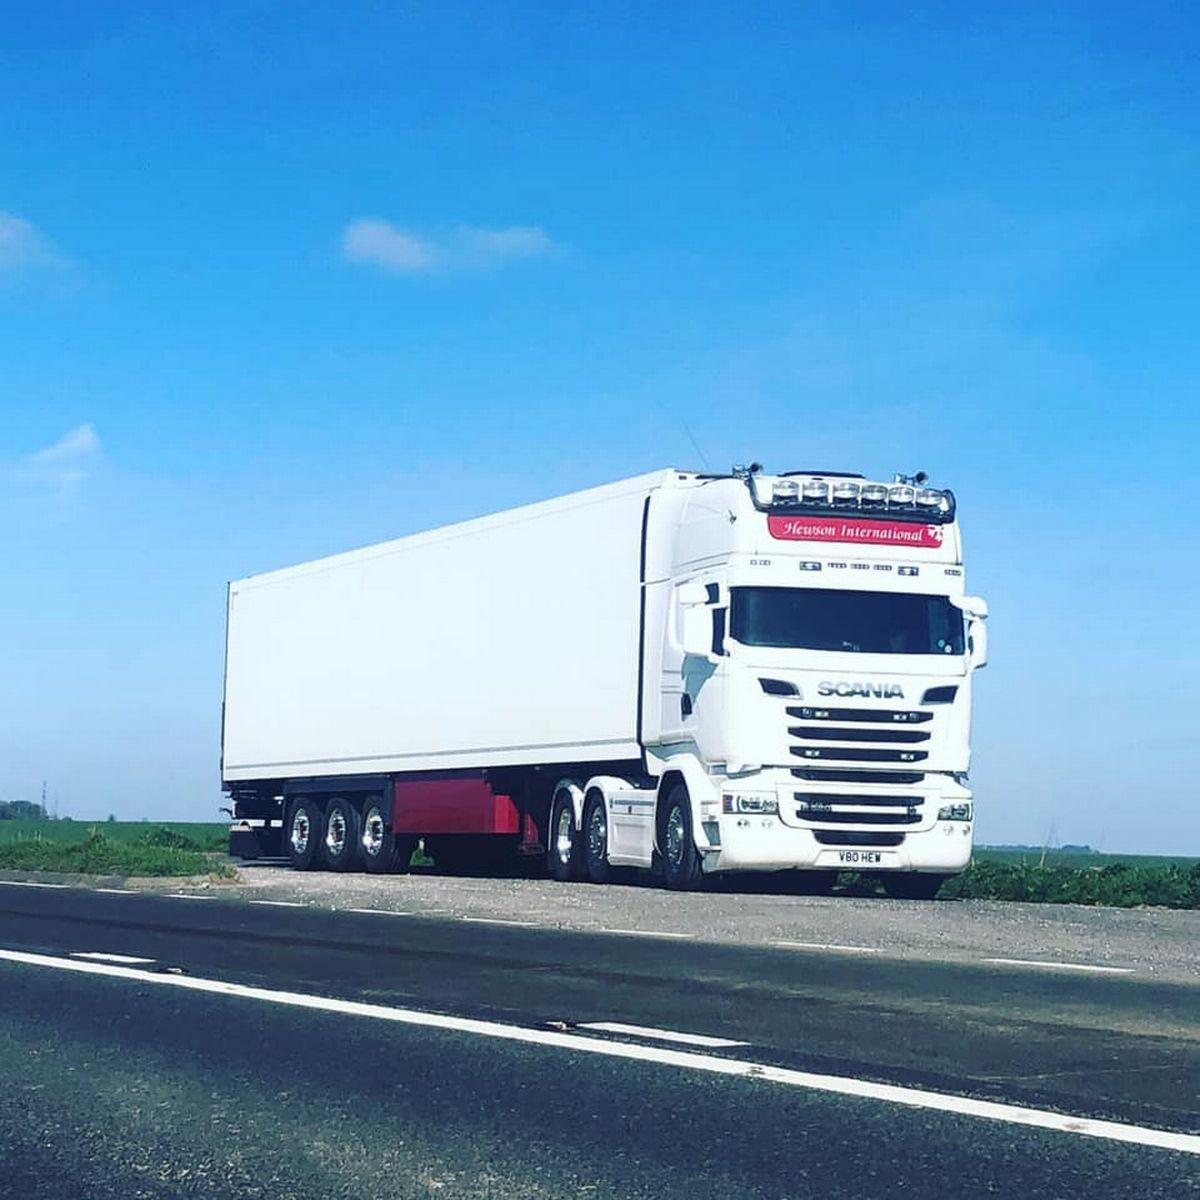truck: (220, 468, 990, 895)
